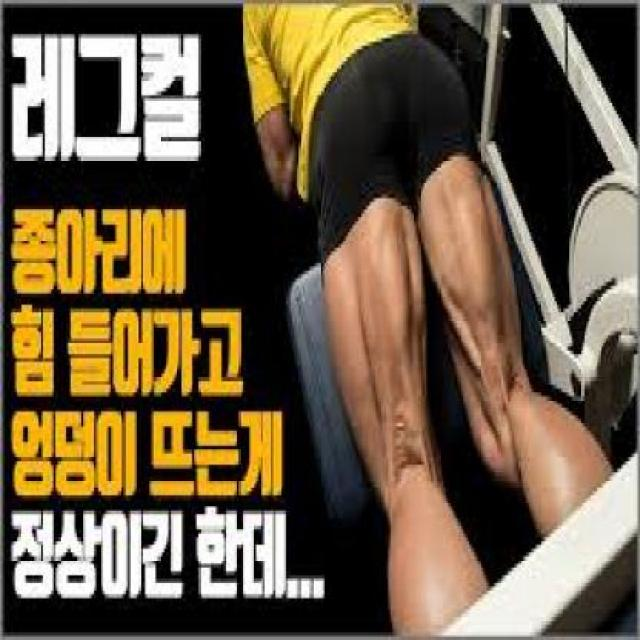reg curl machine: (241, 0, 621, 635)
